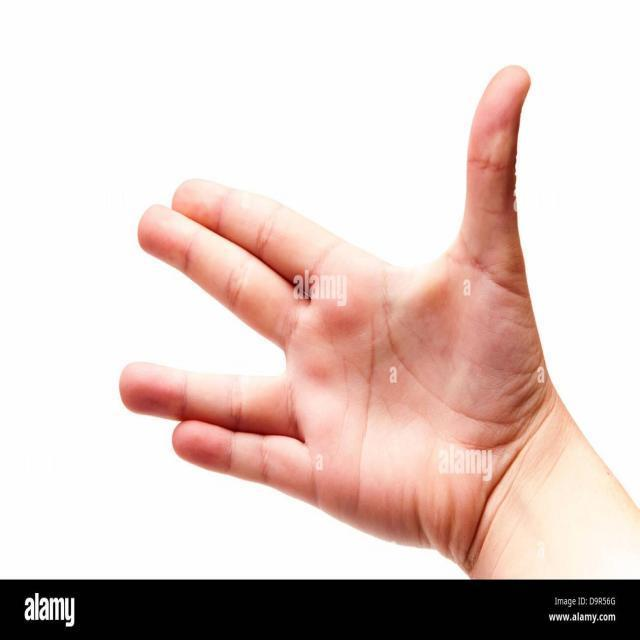Hand: (115, 59, 589, 573)
